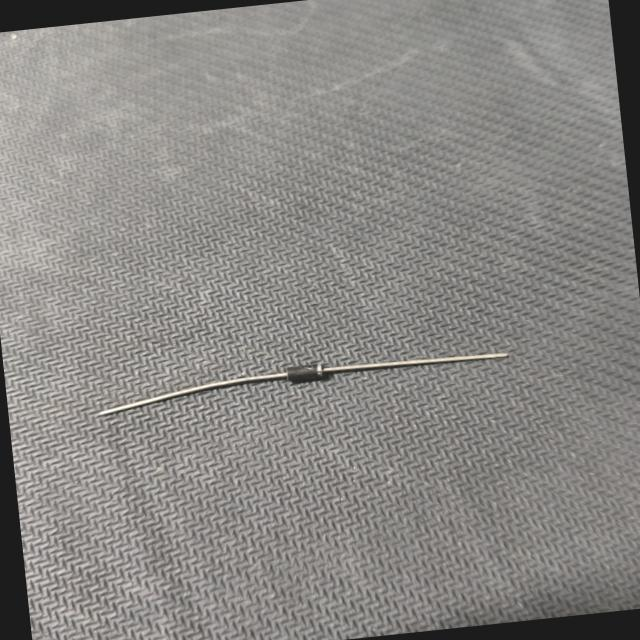resistor: (78, 328, 536, 425)
